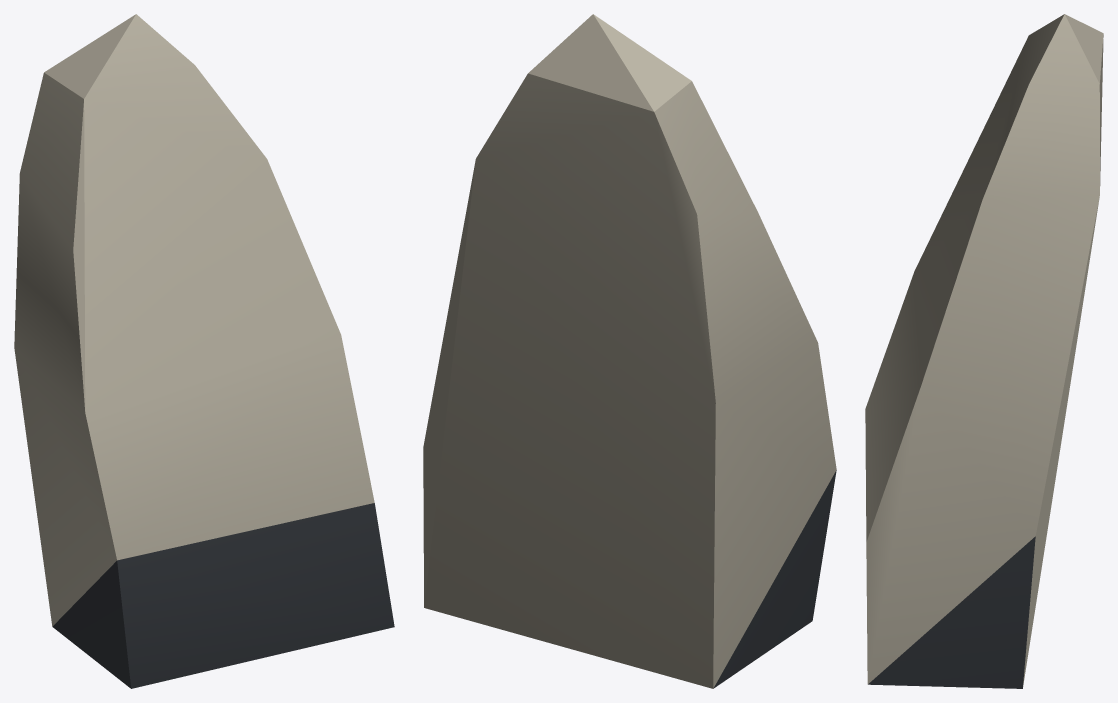
File: StandingStoneB.fbx
3 views of the same model, side by side, from view 1: azimuth 30°, elevation 25°; view 2: azimuth 150°, elevation 25°; view 3: azimuth 270°, elevation 25° (orthographic). The views are drawn at different scales.
Parts seen in each view (by area): view 1: StandingStoneB; view 2: StandingStoneB; view 3: StandingStoneB.
Boxes of the visible parts, <box> form: StandingStoneB: <box>14,14,394,688</box>; StandingStoneB: <box>423,14,836,688</box>; StandingStoneB: <box>865,14,1103,688</box>.
Size of the model in its own units: 0.8864 by 1.67 by 0.6103.
